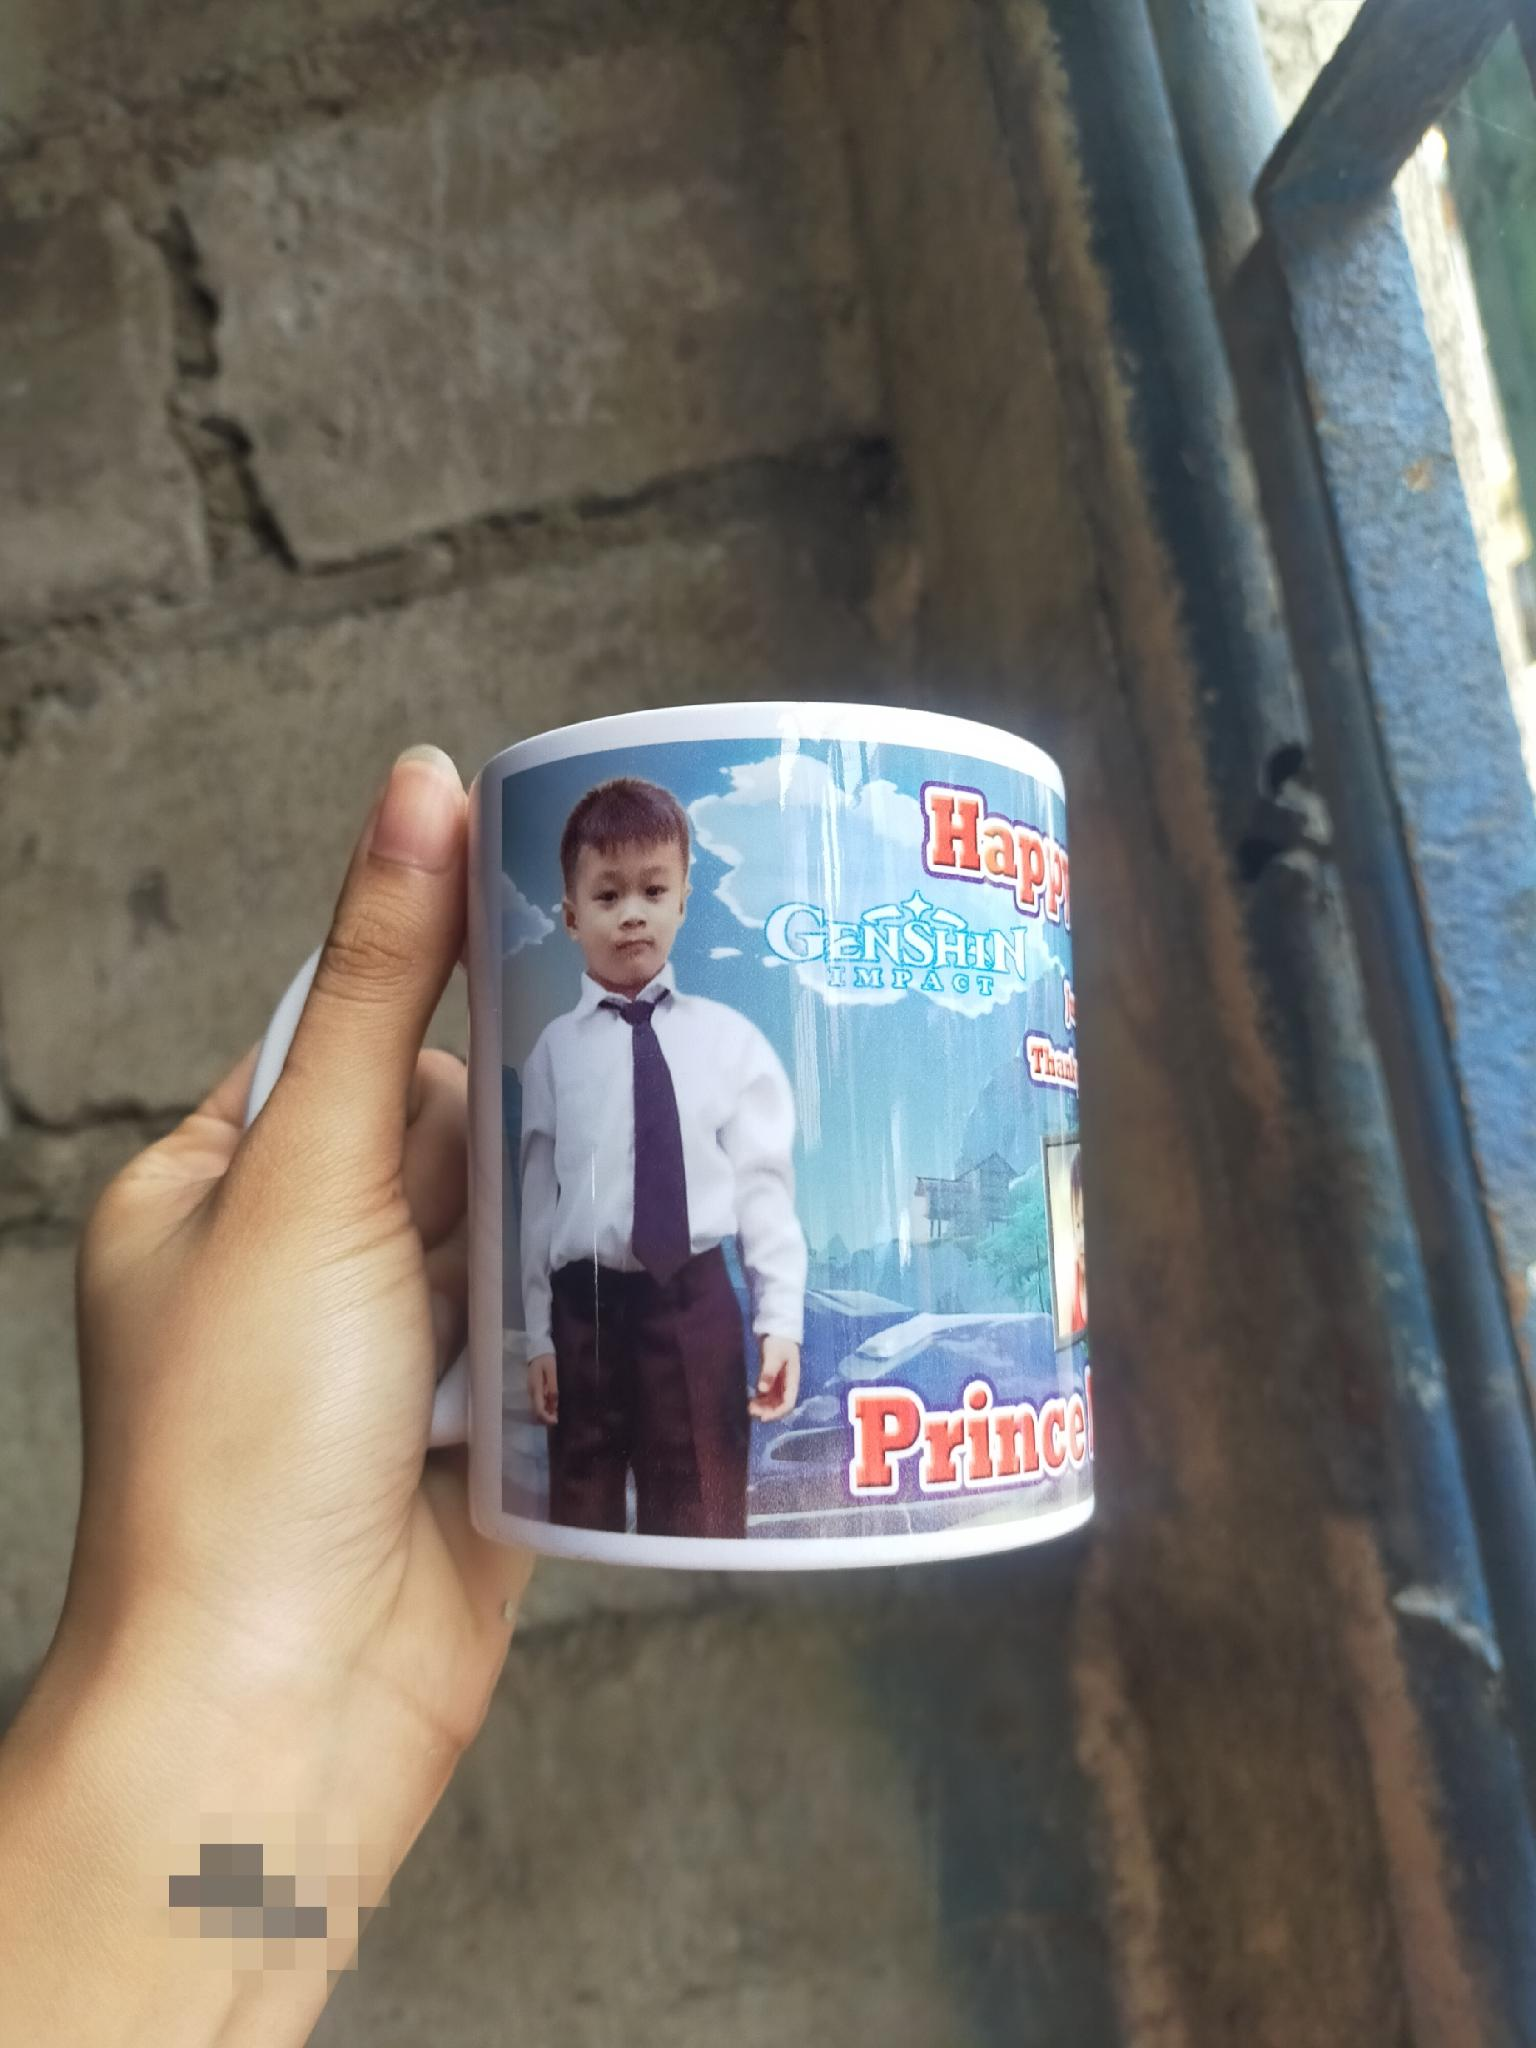Coffee Mug: (252, 698, 1100, 1577)
